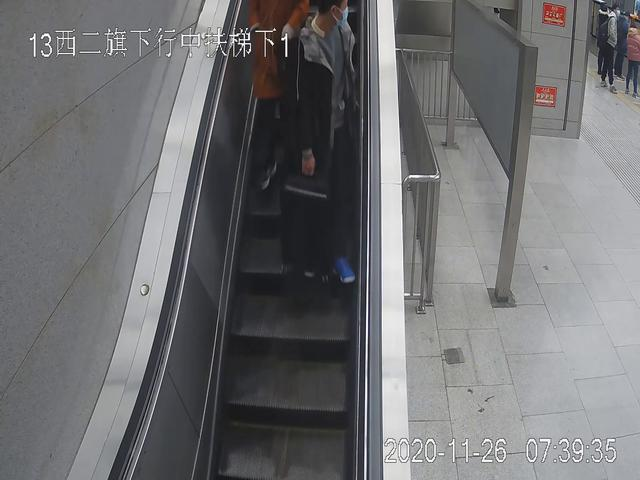person: (295, 1, 372, 284), (600, 5, 621, 93)
